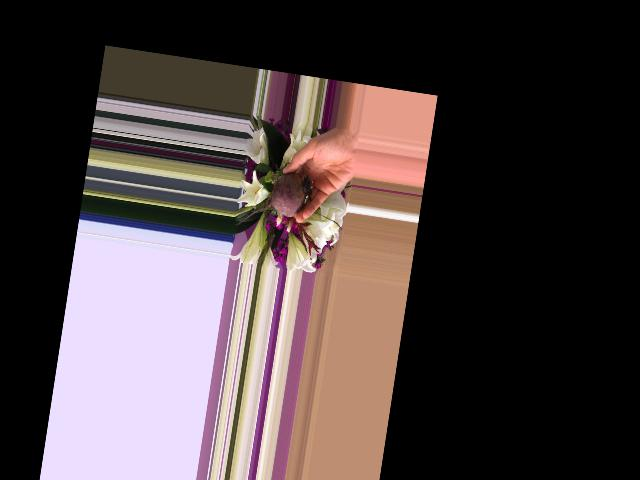beet: (236, 165, 314, 236)
